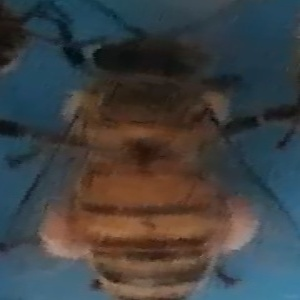bee: (40, 26, 270, 300)
